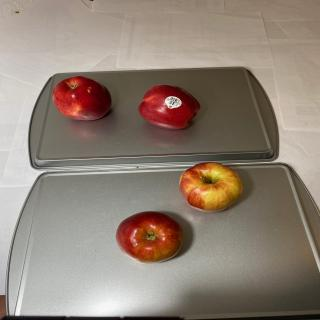Apple: (115, 211, 183, 264), (179, 162, 243, 212), (138, 84, 201, 130), (52, 75, 112, 121)
